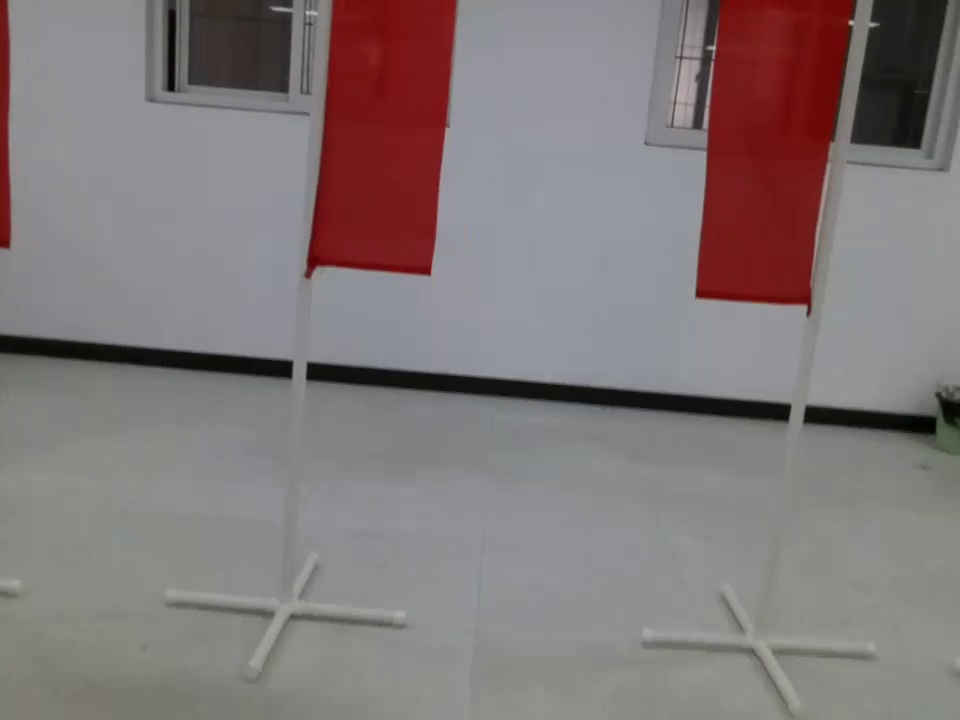qi: (690, 2, 870, 322), (286, 1, 475, 282)
